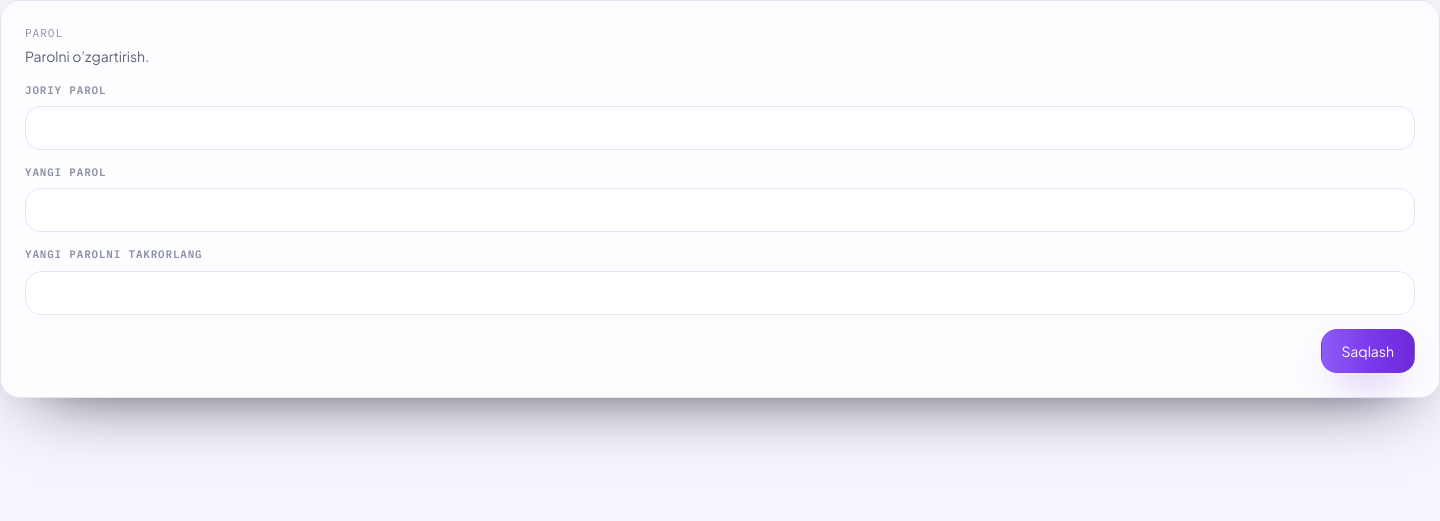
PasswordSection › qisqa parolni ham serverga yubormaydi
Step 1. Type "eski-parol" into the password field labelled "Joriy parol" → x=720, y=128, box x1=25 y1=106 x2=1415 y2=150
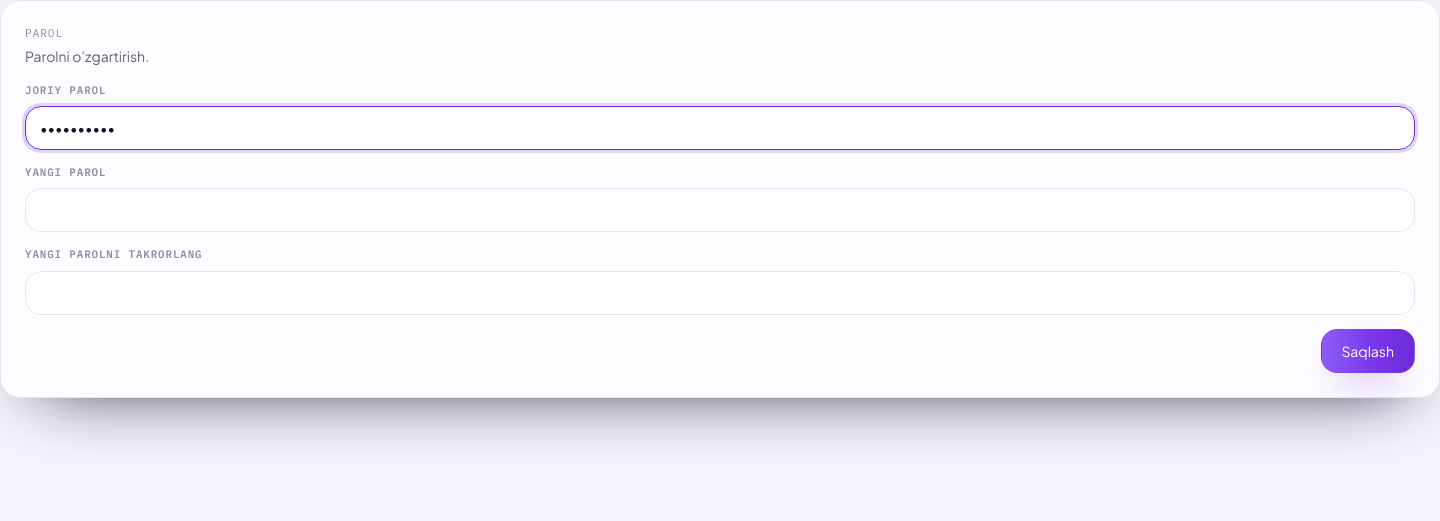
Step 2. Type "qisqa" into the password field labelled "Yangi parol" → x=720, y=210, box x1=25 y1=188 x2=1415 y2=232
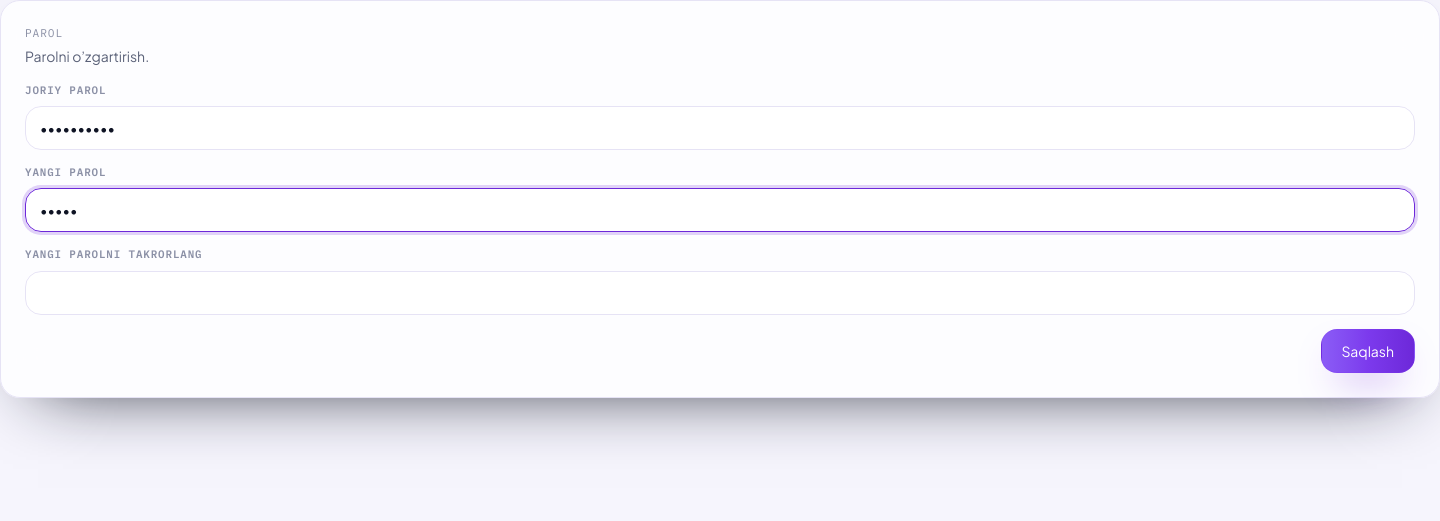
Step 3. Type "qisqa" into the password field labelled "Yangi parolni takrorlang" → x=720, y=293, box x1=25 y1=271 x2=1415 y2=315
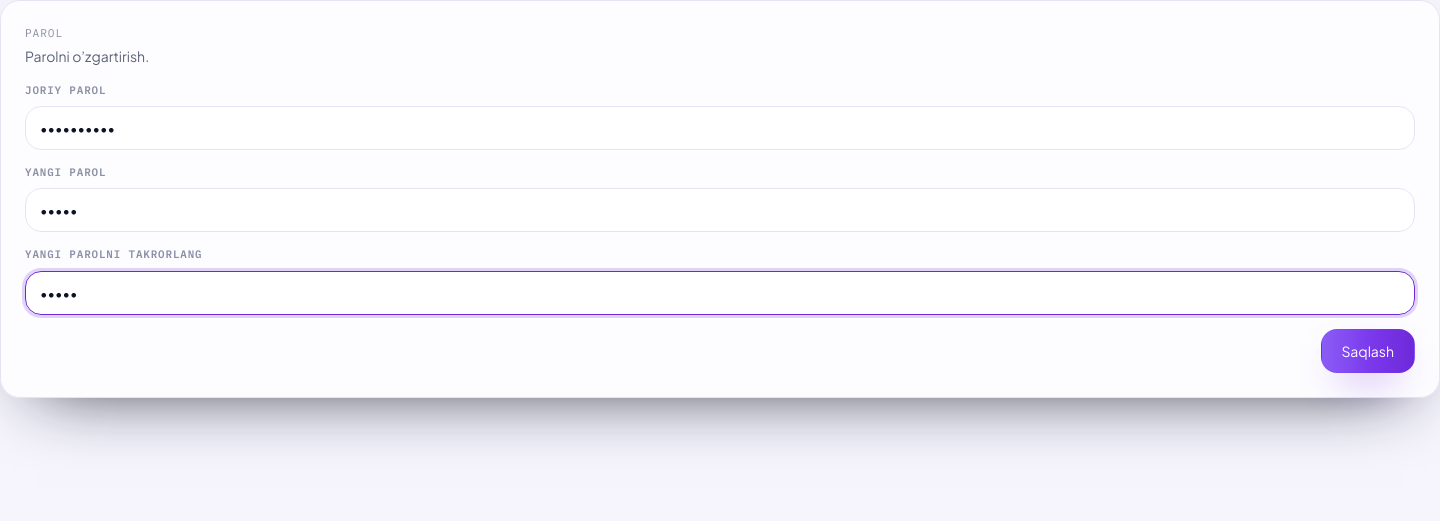
Step 4. Click the button "Saqlash" → x=1368, y=351, box x1=1320 y1=329 x2=1415 y2=373
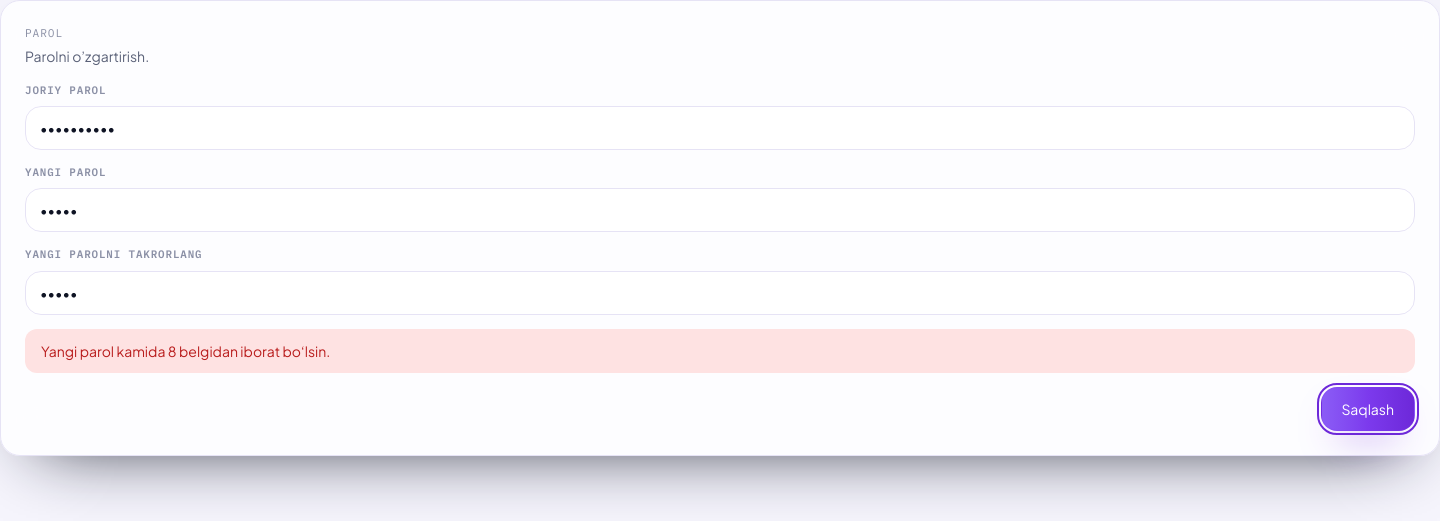
Now the message "Yangi parol kamida 8 belgidan iborat bo‘lsin." is shown, box x1=25 y1=329 x2=1415 y2=373
